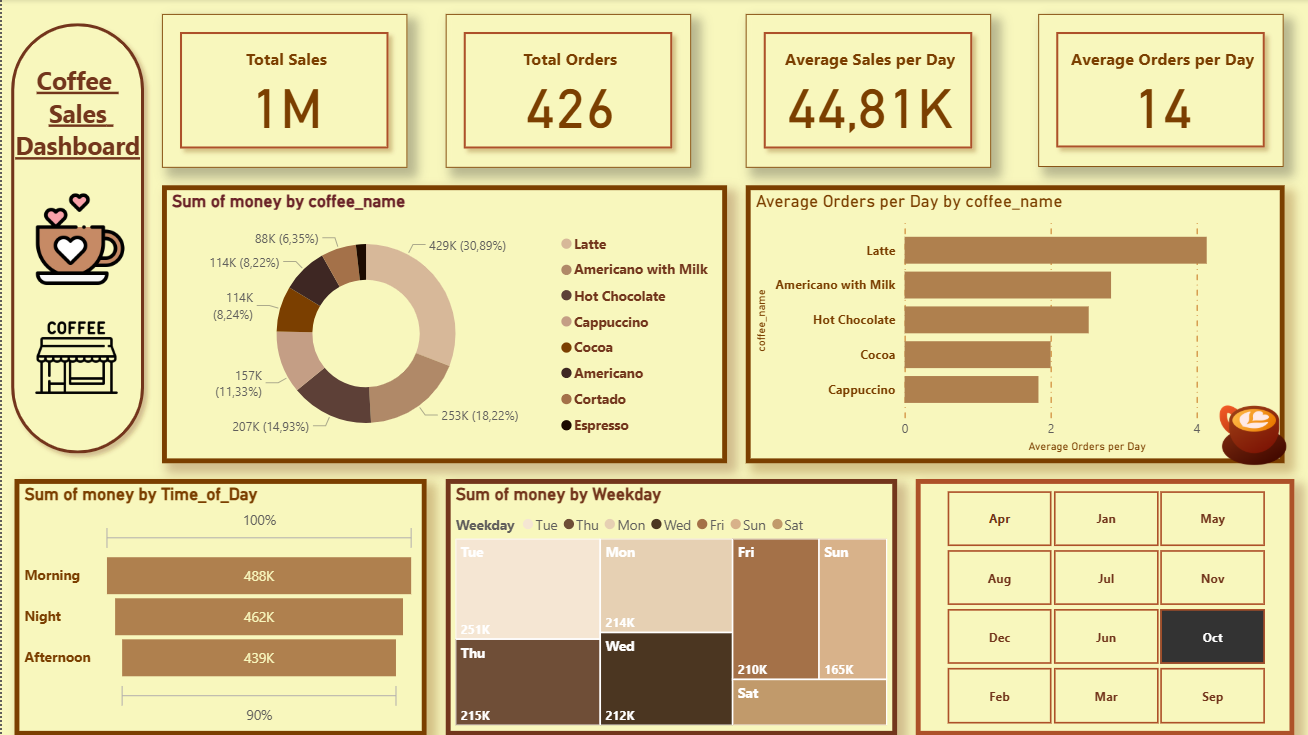

This screenshot's page, from the dashboard's own definition file:
{"tool":"powerbi","page":{"name":"Page 1","canvas":[1280,720],"ordinal":0},"visuals":[{"type":"cardVisual","fields":{"Data":["Sum(Coffe_sales.money)"]},"box":[156.4,15.1,240,150],"z":0},{"type":"cardVisual","fields":{"Data":["CountNonNull(Coffe_sales.coffee_name)"]},"box":[433.6,15.1,240,150],"z":1000},{"type":"cardVisual","fields":{"Data":["Coffe_sales.Average Sales per Day"]},"box":[727.3,15.1,240,150],"z":2000},{"type":"cardVisual","fields":{"Data":["Coffe_sales.Average Orders per Day"]},"box":[1014.1,15.1,240.1,149.6],"z":3000},{"type":"donutChart","fields":{"Category":["Coffe_sales.coffee_name"],"Y":["Sum(Coffe_sales.money)"]},"box":[156.4,182.5,553,271.7],"z":4000},{"type":"clusteredBarChart","fields":{"Category":["Coffe_sales.coffee_name"],"Y":["Coffe_sales.Average Orders per Day"]},"box":[727.3,182.5,526.9,271.7],"z":5000},{"type":"funnel","fields":{"Category":["Coffe_sales.Time_of_Day"],"Y":["Sum(Coffe_sales.money)"]},"box":[12.3,469.3,403.4,251.1],"z":6000},{"type":"slicer","fields":{"Values":["Coffe_sales.Month_name"]},"box":[893.3,469.3,370.5,251.1],"z":8000},{"type":"treemap","fields":{"Values":["Sum(Coffe_sales.money)"],"Group":["Coffe_sales.Weekday"]},"box":[433.6,469.3,441.9,251.1],"z":8001},{"type":"shape","box":[0,14.7,148,439],"z":8002},{"type":"image","box":[1166.6,384,113.7,85.6],"z":8003},{"type":"textbox","box":[0,58.7,148,162.6],"z":8004},{"type":"image","box":[26.9,305.7,91.7,90.5],"z":8005},{"type":"image","box":[26.9,182.2,99,106.4],"z":8006}]}

Visuals, with their boxes in screenshot pixels (x1, y1, x2, y2), scaled from the page's 1280x720 canvas onto the 1308x735 screenshot:
cardVisual - Sum(Coffe_sales.money): <box>160,15,405,169</box>
cardVisual - CountNonNull(Coffe_sales.coffee_name): <box>443,15,688,169</box>
cardVisual - Coffe_sales.Average Sales per Day: <box>743,15,988,169</box>
cardVisual - Coffe_sales.Average Orders per Day: <box>1036,15,1282,168</box>
donutChart - Coffe_sales.coffee_name x Sum(Coffe_sales.money): <box>160,186,725,464</box>
clusteredBarChart - Coffe_sales.coffee_name x Coffe_sales.Average Orders per Day: <box>743,186,1282,464</box>
funnel - Coffe_sales.Time_of_Day x Sum(Coffe_sales.money): <box>13,479,425,734</box>
slicer - Coffe_sales.Month_name: <box>913,479,1291,734</box>
treemap - Sum(Coffe_sales.money) x Coffe_sales.Weekday: <box>443,479,895,734</box>
shape: <box>0,15,151,463</box>
image: <box>1192,392,1307,479</box>
textbox: <box>0,60,151,226</box>
image: <box>27,312,121,404</box>
image: <box>27,186,129,295</box>
